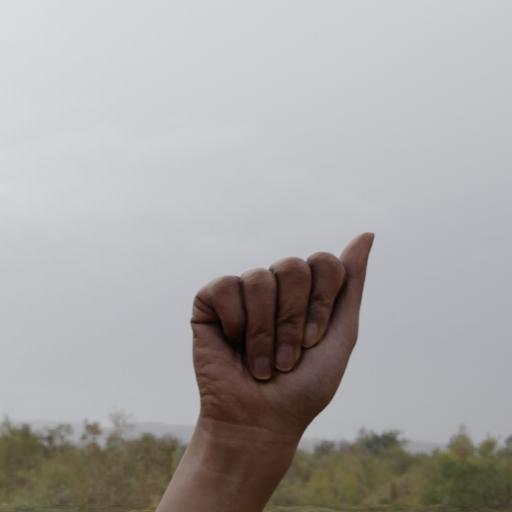A: (172, 221, 391, 439)
